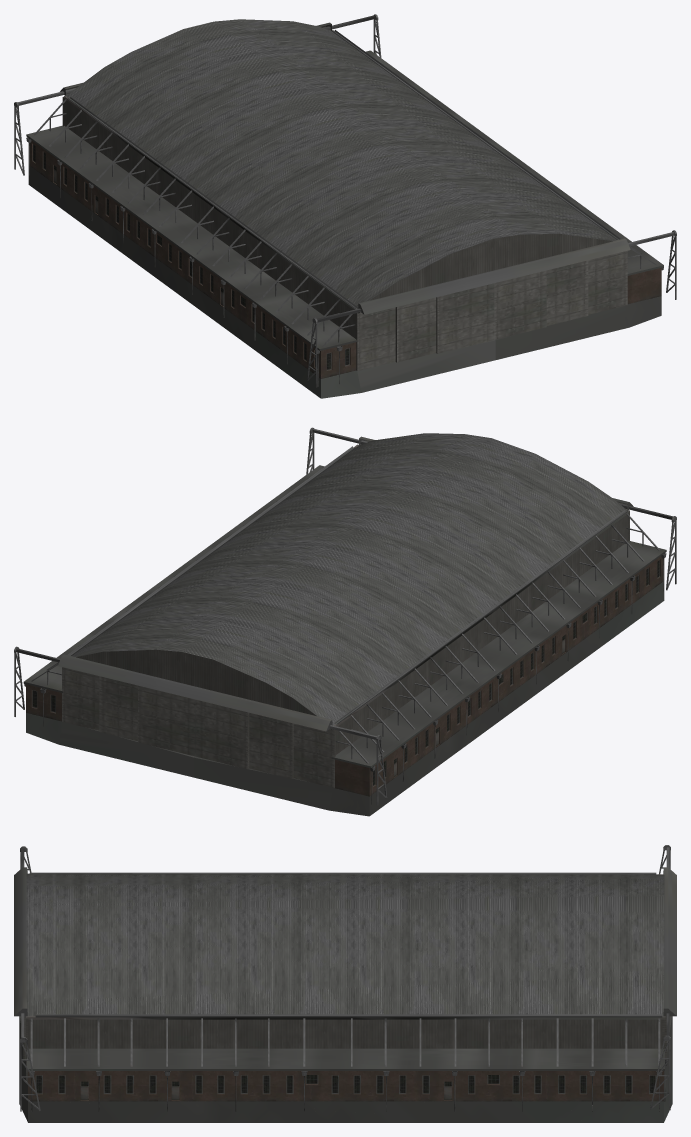
The model's file is hangar-j.walls-v1.lod1.glb.
The picture shows the model from 3 angles, top to bottom: view 1: azimuth 30°, elevation 25°; view 2: azimuth 150°, elevation 25°; view 3: azimuth 270°, elevation 25°; orthographic projection. The views are drawn at different scales.
Visible parts, largest first — view 1: Object_2; view 2: Object_2; view 3: Object_2.
Part boxes in pixels (x1=…): Object_2: x1=14, y1=14, x2=676, y2=398; Object_2: x1=14, y1=427, x2=676, y2=816; Object_2: x1=14, y1=845, x2=676, y2=1122.
Size of the model in its own units: 61.89 by 19.3 by 89.88.
1 material, 1 textured.
